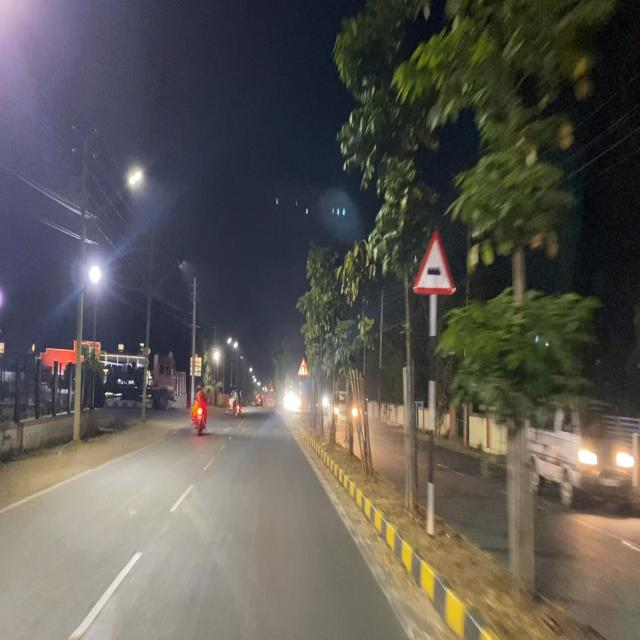bien_cam: (412, 226, 458, 296), (297, 357, 309, 378)
